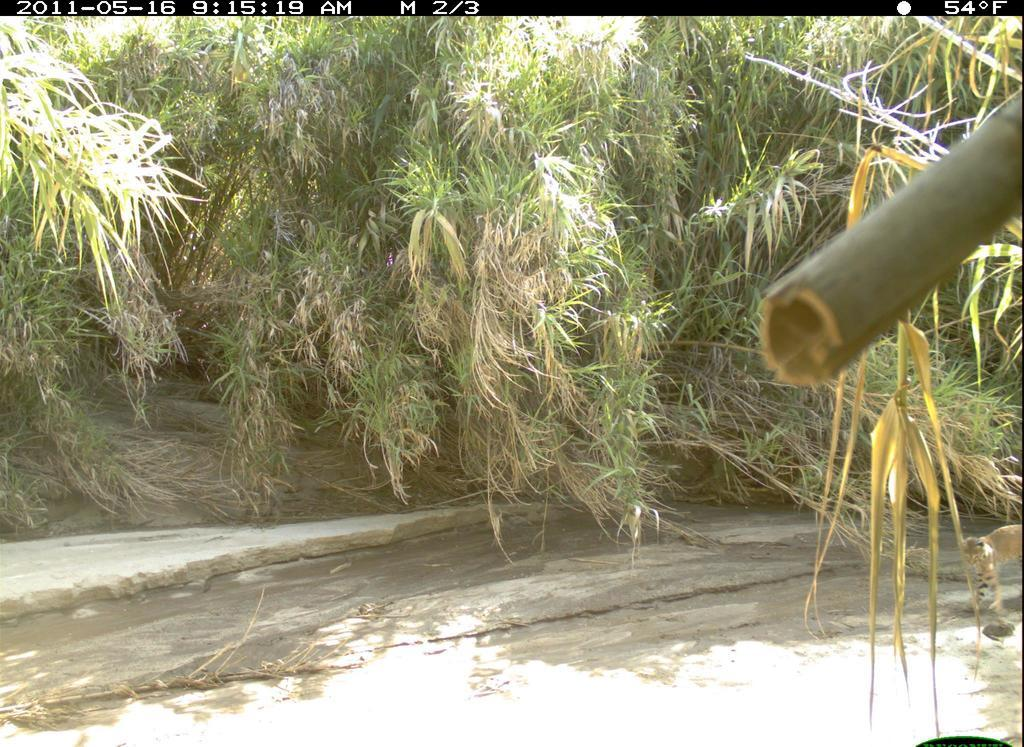bobcat: (940, 498, 1021, 641)
